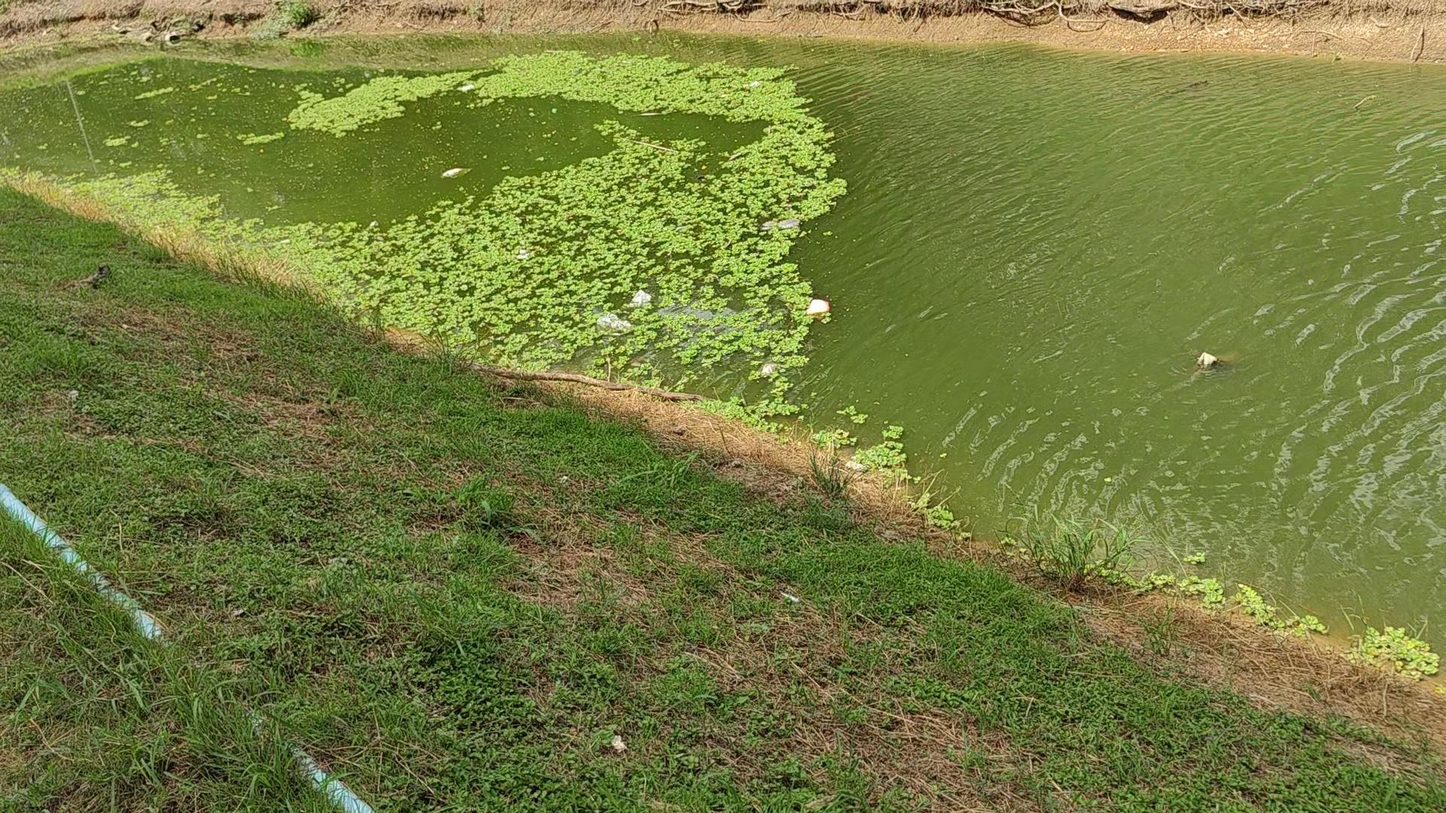trash: (597, 313, 632, 331), (1196, 352, 1222, 370), (806, 298, 830, 315), (631, 290, 651, 306), (777, 218, 800, 229), (443, 168, 469, 177), (761, 362, 776, 375), (517, 248, 530, 259), (459, 84, 475, 91), (750, 80, 760, 87), (369, 221, 377, 227)
